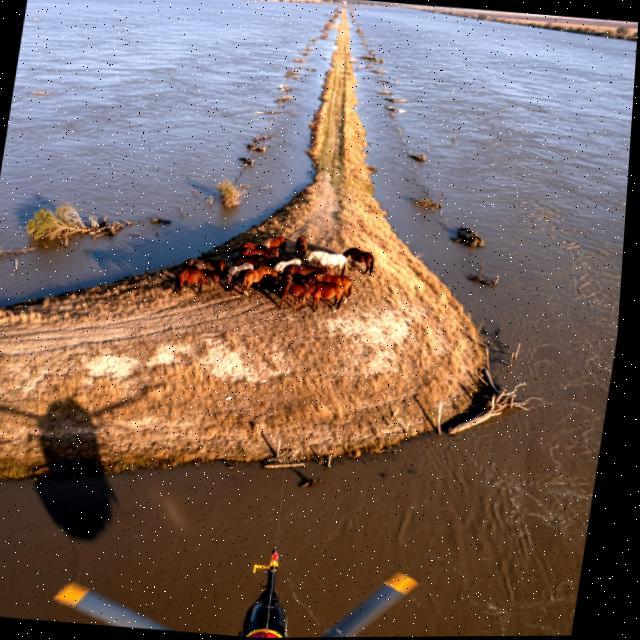horse: (293, 273, 351, 315), (302, 266, 363, 305), (235, 258, 281, 298), (335, 242, 382, 280), (171, 266, 223, 296), (300, 247, 352, 275), (271, 275, 315, 308), (276, 257, 330, 280), (220, 257, 260, 288), (178, 255, 236, 276), (226, 251, 276, 271), (268, 250, 306, 276), (234, 242, 285, 261), (260, 235, 293, 258), (289, 233, 309, 259), (239, 239, 270, 253)
